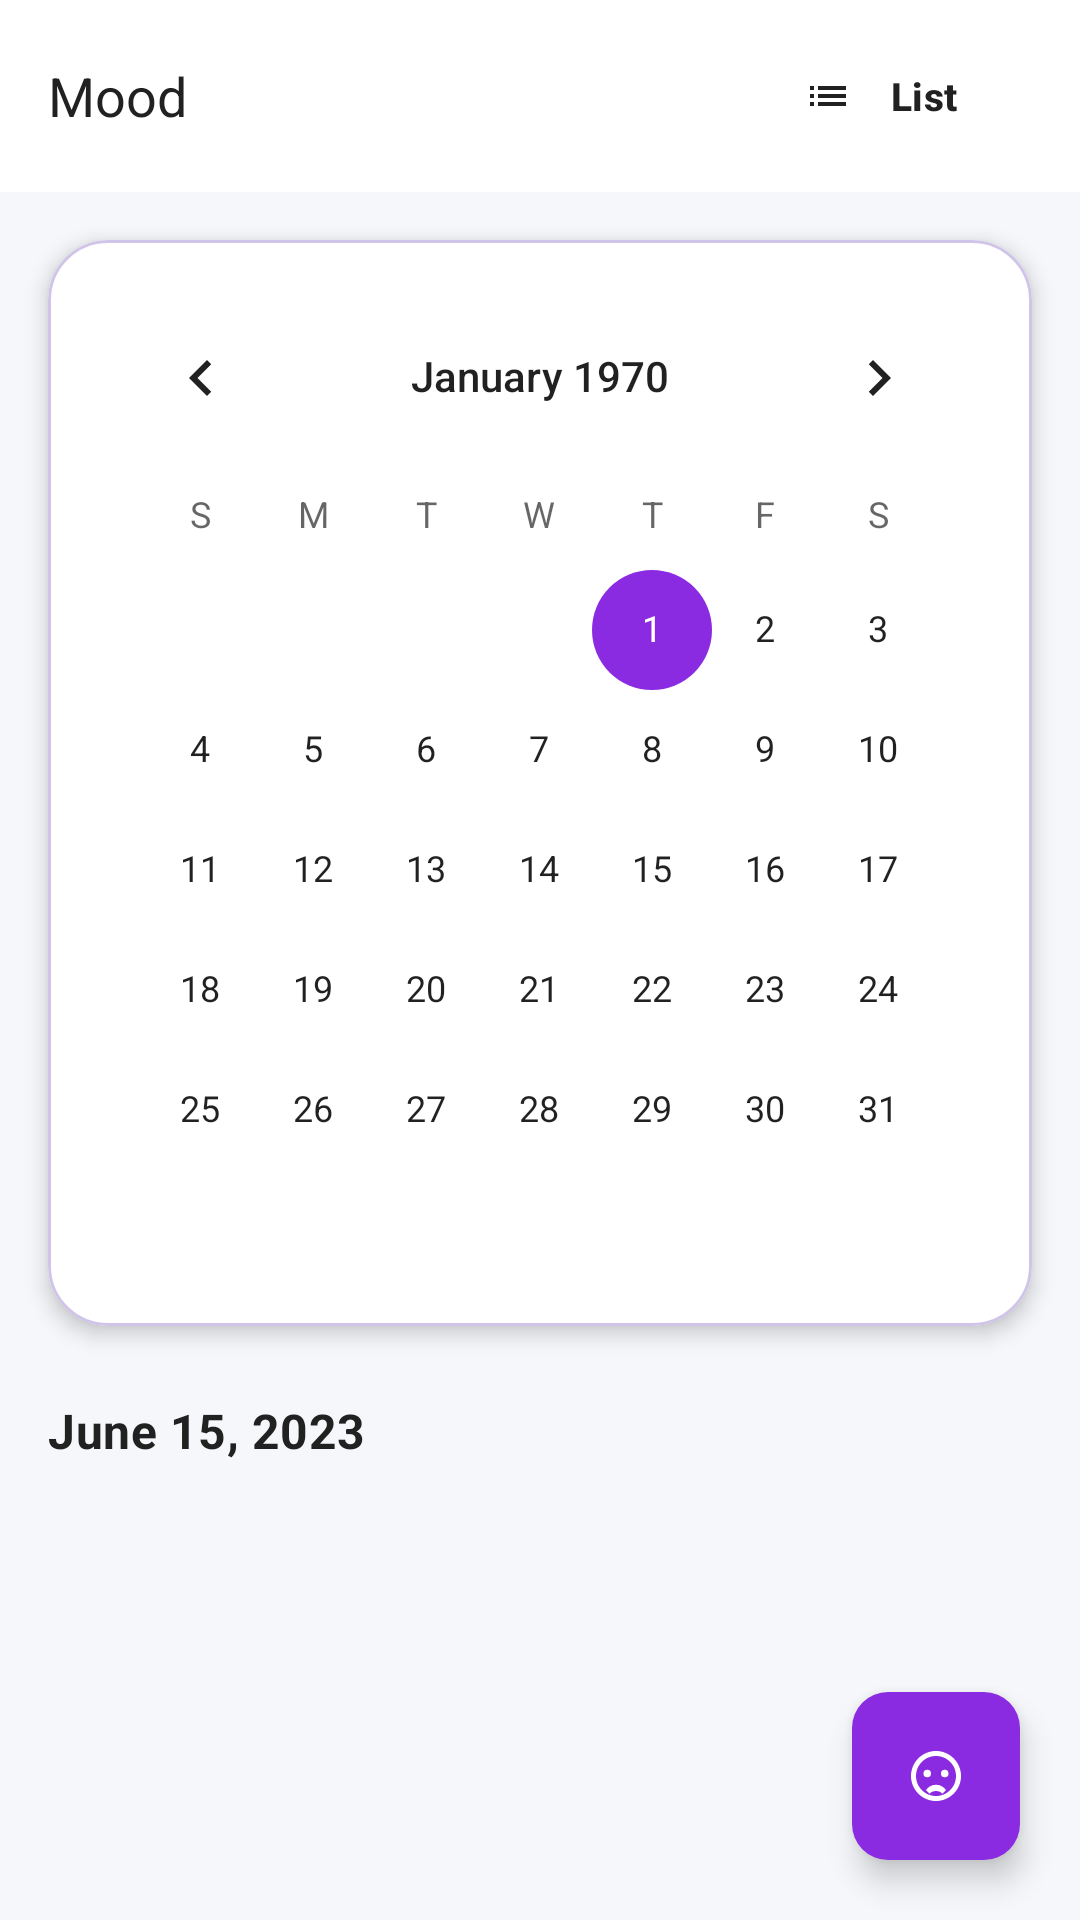

Point at icon controls on the screen. Image size 1080px x 1920px, points as [x,y].
mood: [936,1776]
